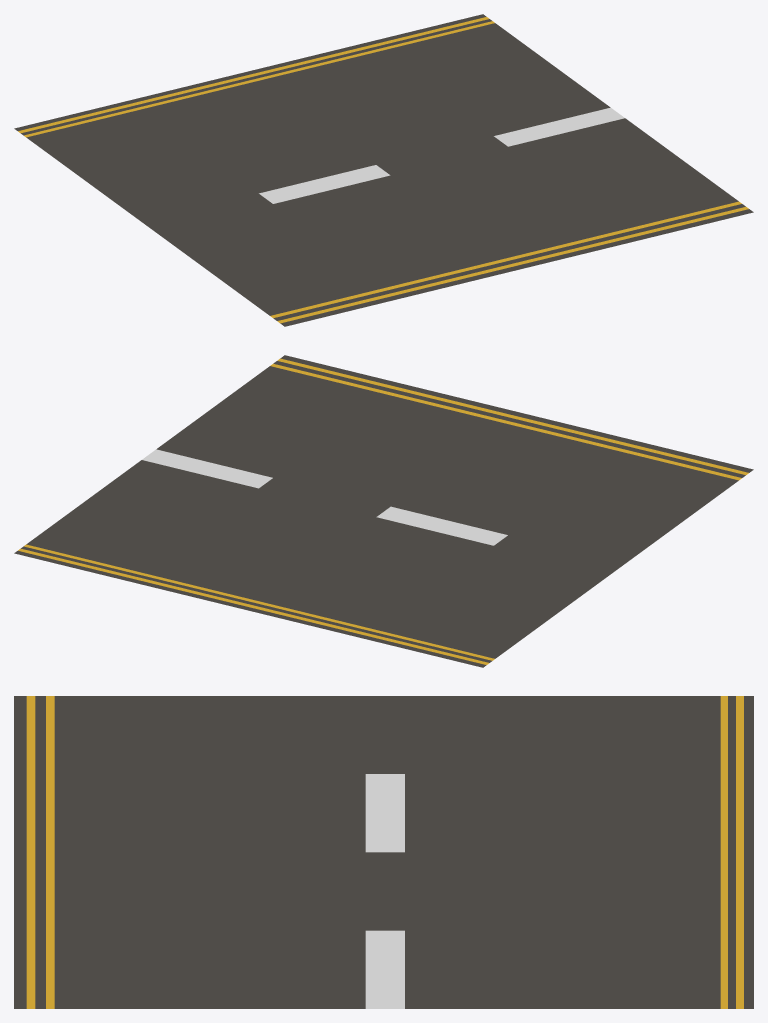
The model's file is RoadStraight.glb.
3 renders of one model, top to bottom at view 1: azimuth 30°, elevation 25°; view 2: azimuth 150°, elevation 25°; view 3: azimuth 270°, elevation 25°, orthographic. The views are drawn at different scales.
Parts seen in each view (by area): view 1: Plane.016; view 2: Plane.016; view 3: Plane.016.
Part boxes in pixels (left/top/right/bottom): Plane.016: left=14, top=14, right=753, bottom=326; Plane.016: left=14, top=355, right=753, bottom=667; Plane.016: left=14, top=696, right=753, bottom=1008.
Bounding box in the file's own units: 20 × 0 × 20.
